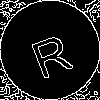R: (25, 25, 75, 80)
